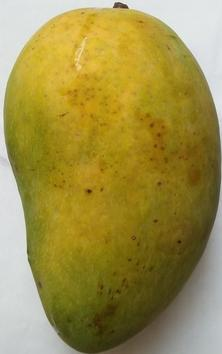PartiallyRipe: (1, 0, 222, 354)
